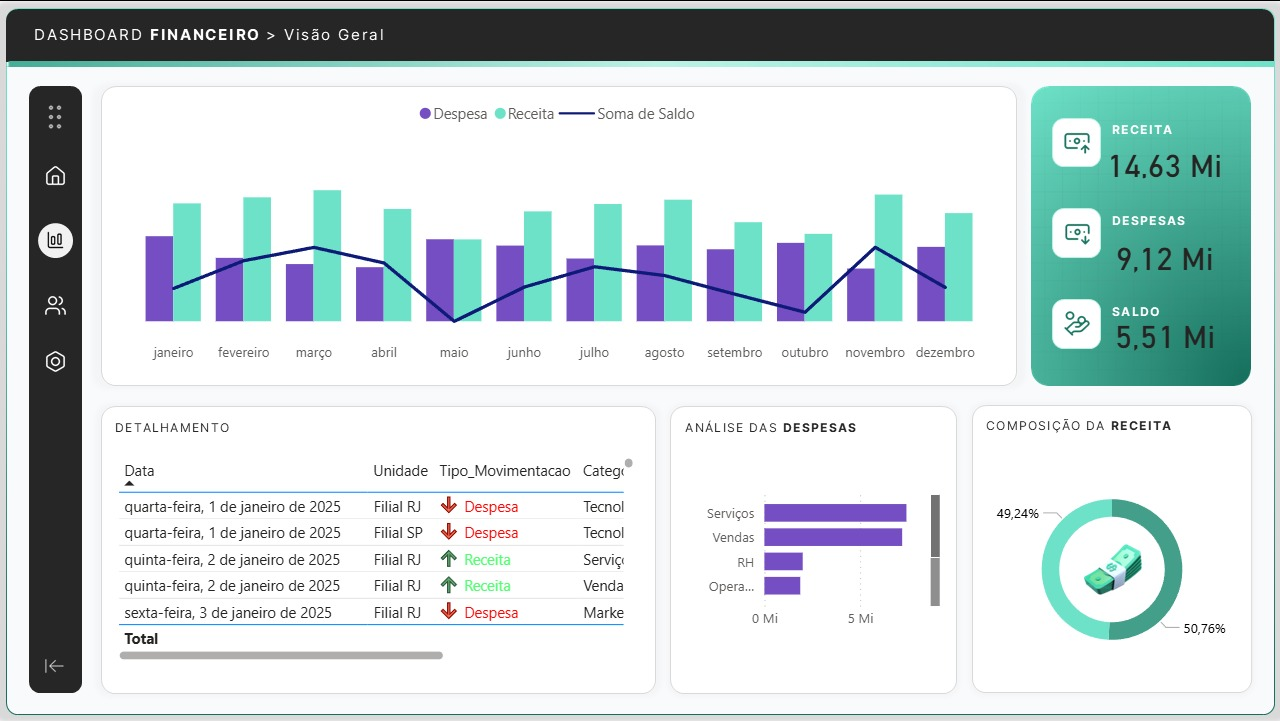

What the dashboard file says about the page in this screenshot:
{"tool":"powerbi","page":{"name":"DashBoard Vendas","canvas":[1280,720],"ordinal":0},"visuals":[{"type":"lineClusteredColumnComboChart","fields":{"Category":["Extrato.Data.Variation.Hierarquia de datas.Mês","Extrato.Data.Variation.Hierarquia de datas.Dia"],"Y":["Sum(Extrato.Valor)"],"Series":["Extrato.Tipo_Movimentacao"],"Y2":["Sum(Extrato.Saldo)"]},"box":[176.8,117,811.6,255.7],"z":0},{"type":"actionButton","box":[0,0,100,40],"z":1000},{"type":"donutChart","fields":{"Category":["Extrato.Categoria"],"Y":["Sum(Extrato.Valor)"]},"box":[961.2,457,244.8,187.7],"z":2000},{"type":"tableEx","fields":{"Values":["Extrato.Data","Extrato.Unidade","Extrato.Tipo_Movimentacao","Extrato.Categoria","Extrato.Forma_Pagamento","Sum(Extrato.Valor)"]},"box":[176.8,444.3,477.9,194.1],"z":3000},{"type":"barChart","fields":{"Y":["Sum(Extrato.Valor)"],"Category":["Extrato.Categoria"]},"box":[696.4,469.7,235.8,143.3],"z":4000},{"type":"card","fields":{"Values":["Sum(Extrato.Valor)"]},"box":[1072.7,164.1,117,37.2],"z":5000},{"type":"card","fields":{"Values":["Sum(Extrato.Valor)"]},"box":[1064.6,244.8,133.3,45.3],"z":6000},{"type":"card","fields":{"Values":["Sum(Extrato.Saldo)"]},"box":[1064.6,316.5,133.3,43.5],"z":7000}]}

Visuals, with their boxes on the page's 1280x720 design canvas (x1, y1, x2, y2). These are canvas units, not pixel positions in the 1280x721 screenshot, which may show the page scaled, cropped or inside an application window:
lineClusteredColumnComboChart - Extrato.Data.Variation.Hierarquia de datas.Mês x Extrato.Data.Variation.Hierarquia de datas.Dia: <bbox>177, 117, 988, 373</bbox>
actionButton: <bbox>0, 0, 100, 40</bbox>
donutChart - Extrato.Categoria x Sum(Extrato.Valor): <bbox>961, 457, 1206, 645</bbox>
tableEx - Extrato.Data x Extrato.Unidade: <bbox>177, 444, 655, 638</bbox>
barChart - Sum(Extrato.Valor) x Extrato.Categoria: <bbox>696, 470, 932, 613</bbox>
card - Sum(Extrato.Valor): <bbox>1073, 164, 1190, 201</bbox>
card - Sum(Extrato.Valor): <bbox>1065, 245, 1198, 290</bbox>
card - Sum(Extrato.Saldo): <bbox>1065, 316, 1198, 360</bbox>
